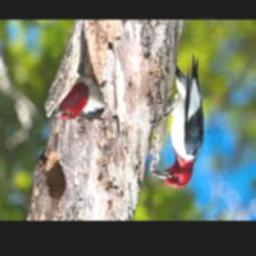Woodpecker: (151, 54, 205, 187), (52, 49, 106, 123)
